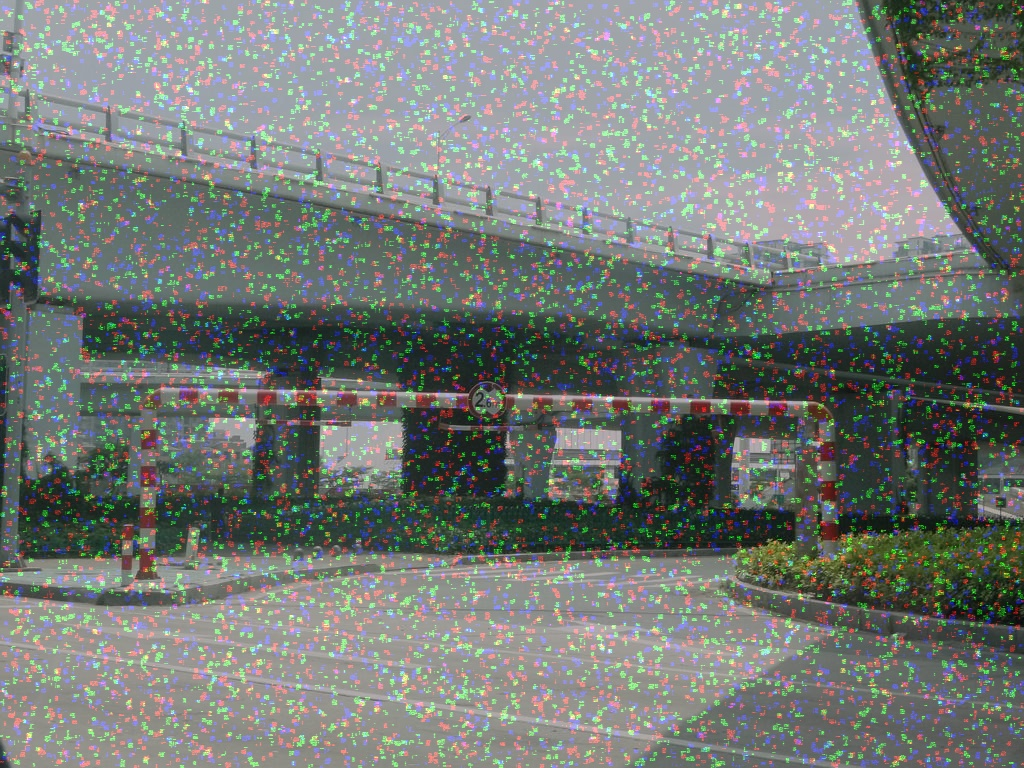Prohibitory Signs: (464, 377, 510, 423)
